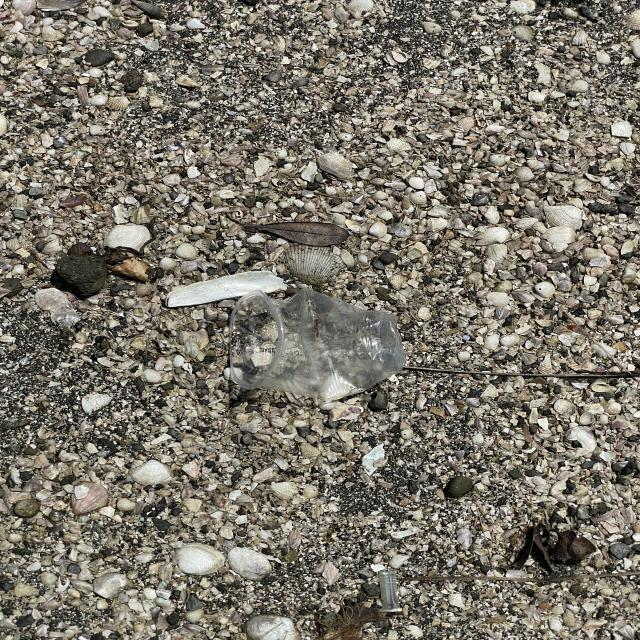litter: (229, 286, 409, 398)
